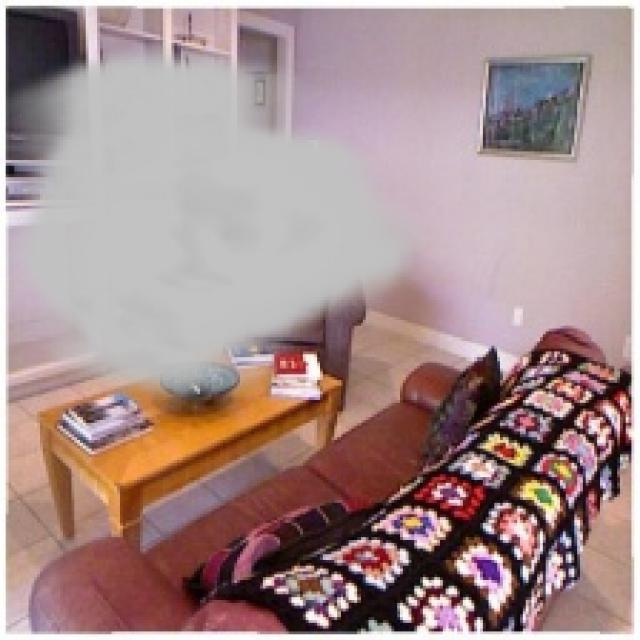Smoke: (6, 42, 428, 408)
